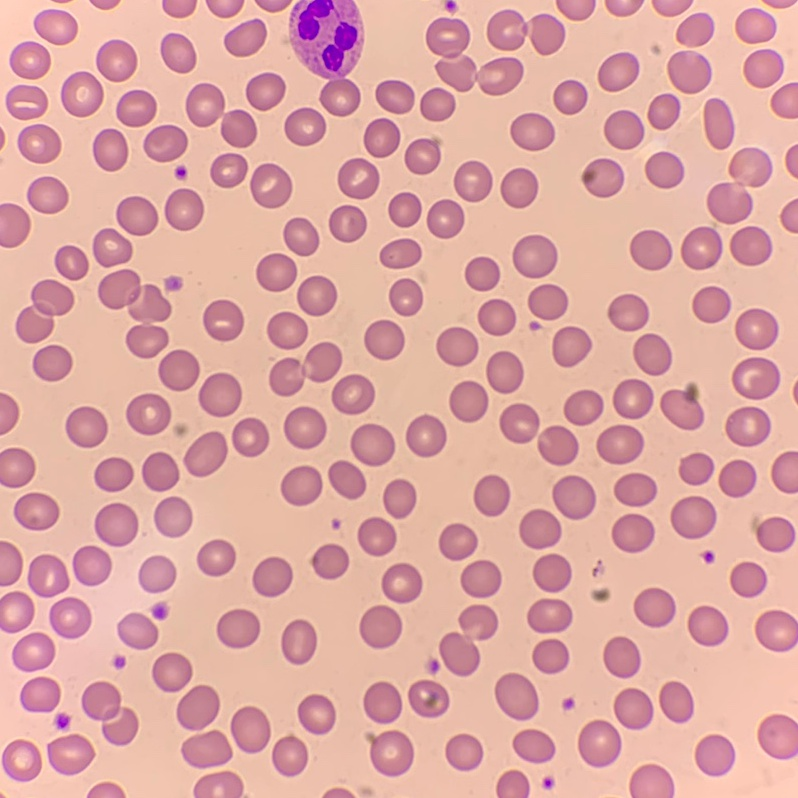RBC: (290, 0, 363, 115), (426, 18, 523, 95), (707, 148, 771, 223), (186, 83, 256, 147), (439, 605, 497, 675), (98, 269, 170, 322), (269, 342, 341, 395), (16, 280, 73, 342), (82, 682, 137, 745), (487, 10, 564, 54), (495, 673, 538, 720), (578, 720, 621, 767), (369, 731, 413, 776), (732, 357, 779, 399), (661, 384, 703, 429), (671, 496, 716, 538), (177, 685, 219, 730), (552, 476, 595, 519), (513, 235, 557, 277), (184, 432, 226, 476), (47, 734, 93, 774), (231, 706, 270, 753), (182, 731, 231, 768), (668, 51, 711, 93), (199, 373, 241, 416), (351, 424, 394, 466), (95, 503, 137, 546), (61, 72, 102, 116), (597, 425, 643, 464), (250, 164, 291, 207), (360, 605, 401, 648), (126, 394, 170, 434), (758, 714, 797, 759), (681, 227, 722, 269), (284, 407, 326, 448), (735, 309, 778, 349), (726, 407, 770, 446), (756, 610, 797, 651), (630, 230, 672, 270), (28, 555, 68, 597), (96, 40, 136, 81), (66, 407, 107, 447), (49, 598, 90, 638), (18, 124, 60, 163), (332, 375, 374, 414), (217, 609, 259, 648), (338, 158, 378, 198), (203, 300, 243, 340), (159, 350, 199, 390), (688, 606, 728, 646), (116, 196, 157, 235), (730, 226, 771, 265), (406, 415, 445, 456), (519, 509, 560, 548), (634, 588, 675, 627), (614, 688, 653, 729), (695, 735, 734, 776), (2, 740, 41, 781), (612, 514, 654, 552), (12, 633, 54, 671), (511, 113, 554, 150), (14, 493, 58, 529), (598, 52, 638, 91), (604, 110, 644, 149), (364, 320, 404, 359), (437, 327, 477, 366), (613, 379, 653, 418), (538, 426, 578, 465), (281, 466, 321, 505), (382, 563, 421, 603), (152, 653, 192, 692), (582, 159, 623, 197), (165, 189, 203, 230), (633, 334, 671, 375), (486, 351, 523, 393), (144, 125, 187, 161), (281, 620, 316, 664), (297, 276, 336, 315), (552, 327, 591, 366), (253, 557, 292, 596), (454, 161, 492, 201), (450, 381, 487, 422), (364, 682, 401, 723), (34, 9, 77, 44), (751, 517, 795, 551), (527, 599, 572, 632), (744, 49, 783, 87), (500, 404, 538, 443), (10, 41, 50, 78), (285, 108, 325, 145), (608, 294, 648, 331), (603, 637, 640, 677), (408, 680, 448, 717), (298, 694, 335, 734), (704, 99, 734, 148), (630, 764, 674, 797), (93, 228, 131, 266), (358, 517, 396, 555), (533, 554, 571, 592), (257, 254, 296, 291), (268, 312, 307, 349), (154, 497, 191, 536), (73, 546, 110, 585), (461, 560, 500, 597), (225, 20, 265, 56), (27, 177, 67, 213), (474, 475, 509, 516), (5, 85, 47, 119), (116, 90, 155, 126), (501, 168, 537, 207), (142, 452, 178, 491), (118, 613, 157, 649), (20, 677, 60, 712), (272, 736, 307, 776), (93, 129, 127, 170), (659, 681, 693, 722), (513, 729, 554, 763), (126, 324, 168, 357), (614, 473, 656, 506), (329, 205, 366, 242), (719, 460, 756, 497), (246, 73, 284, 109), (645, 152, 683, 188), (427, 200, 463, 238), (33, 345, 71, 381), (232, 418, 268, 456), (329, 461, 365, 499), (439, 524, 477, 560), (197, 540, 235, 576), (364, 118, 399, 157), (528, 284, 567, 319), (564, 390, 603, 425), (736, 8, 776, 42), (478, 299, 515, 335), (161, 33, 195, 72), (0, 448, 34, 487), (0, 592, 33, 632), (139, 556, 175, 592), (446, 734, 482, 770), (693, 287, 730, 322), (311, 544, 348, 579), (0, 204, 30, 247), (94, 458, 133, 491), (383, 479, 416, 518), (405, 138, 440, 174), (730, 562, 766, 597), (210, 153, 247, 187), (284, 218, 318, 255), (376, 80, 414, 113), (677, 13, 714, 46), (194, 772, 242, 797), (533, 639, 568, 673), (389, 279, 422, 315), (380, 239, 420, 268), (554, 80, 587, 114), (465, 257, 499, 290), (420, 88, 455, 120), (648, 94, 680, 129), (55, 246, 88, 279), (679, 453, 713, 484), (772, 451, 797, 493), (389, 193, 420, 226), (0, 541, 22, 586), (771, 82, 797, 118), (496, 770, 529, 797), (556, 0, 595, 20), (0, 393, 18, 433), (653, 0, 691, 16), (207, 0, 242, 17), (605, 0, 641, 16), (162, 0, 195, 17), (88, 782, 124, 797), (781, 200, 797, 232), (257, 0, 289, 11), (786, 146, 797, 176), (54, 713, 69, 730), (152, 602, 167, 618), (165, 276, 182, 290), (325, 788, 351, 797), (93, 0, 117, 9), (592, 589, 609, 601), (768, 0, 793, 7), (426, 659, 438, 673), (174, 423, 186, 436), (175, 165, 186, 179), (360, 786, 373, 797), (113, 656, 124, 667), (444, 0, 455, 10), (704, 551, 714, 562), (563, 699, 574, 709), (543, 777, 553, 788), (0, 133, 4, 143)
